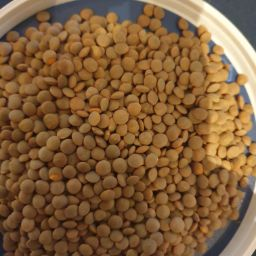Black Lentil(masoor daal): (88, 7, 193, 256), (156, 29, 256, 256), (2, 32, 89, 256)
